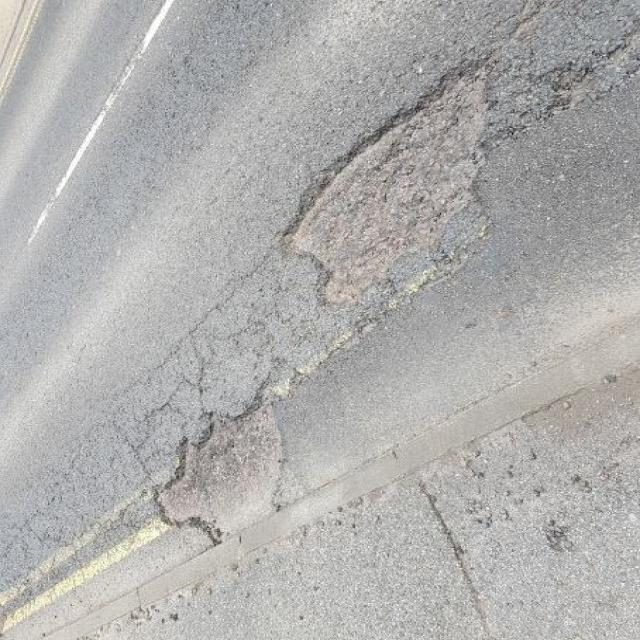pothole: (273, 50, 502, 312), (149, 370, 285, 546)
